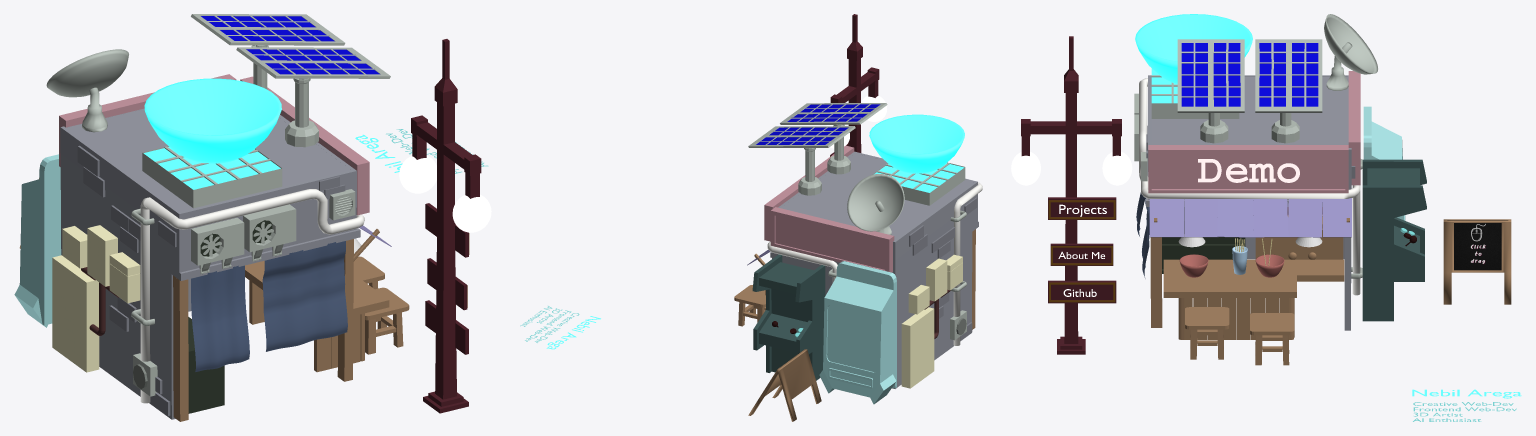
Rendered from JesseFinal2.glb.
3 renders of one model, left to right at view 1: azimuth 30°, elevation 25°; view 2: azimuth 150°, elevation 25°; view 3: azimuth 270°, elevation 25°, orthographic. The views are drawn at different scales.
Visible parts, largest first — view 1: House, Curtain2, Panels, BigBowl, Pole, VendingMachine, Source, TeslaPowerBank, Pipe, Tesla, Table, Brick (+17 smaller); view 2: House, VendingMachine, Game, Panels, LeftAD, BigBowl, Dish, TeslaPowerBank, Source, Pole, Instruction, Tesla (+5 smaller); view 3: Panels, FrontAD, Game, Table, Hammic, House, Pole, Instruction, BigBowl, Duka, Pipe, Dish (+16 smaller).
Boxes of the visible parts, left/top/right/bottom form: House: left=60, top=108, right=360, bottom=419; Curtain2: left=191, top=241, right=347, bottom=371; Panels: left=191, top=14, right=390, bottom=147; BigBowl: left=144, top=78, right=281, bottom=163; Pole: left=411, top=39, right=481, bottom=413; VendingMachine: left=14, top=154, right=61, bottom=327; Source: left=142, top=146, right=282, bottom=208; TeslaPowerBank: left=52, top=255, right=99, bottom=372; Pipe: left=140, top=189, right=364, bottom=403; Tesla: left=62, top=225, right=140, bottom=303; Table: left=245, top=261, right=389, bottom=372; Brick: left=77, top=145, right=345, bottom=415; House: left=770, top=151, right=978, bottom=388; VendingMachine: left=819, top=261, right=896, bottom=404; Game: left=752, top=254, right=825, bottom=380; Panels: left=748, top=103, right=887, bottom=195; LeftAD: left=770, top=207, right=894, bottom=272; BigBowl: left=869, top=114, right=964, bottom=173; Dish: left=847, top=174, right=904, bottom=234; TeslaPowerBank: left=901, top=307, right=934, bottom=388; Source: left=872, top=162, right=965, bottom=205; Pole: left=830, top=14, right=879, bottom=152; Instruction: left=748, top=349, right=821, bottom=421; Tesla: left=908, top=254, right=962, bottom=314; Panels: left=1177, top=39, right=1322, bottom=143; FrontAD: left=1148, top=145, right=1348, bottom=193; Game: left=1362, top=159, right=1426, bottom=321; Table: left=1163, top=259, right=1344, bottom=339; Hammic: left=1149, top=198, right=1351, bottom=237; House: left=1146, top=75, right=1351, bottom=330; Pole: left=1021, top=36, right=1121, bottom=354; Instruction: left=1443, top=219, right=1511, bottom=304; BigBowl: left=1135, top=14, right=1252, bottom=84; Duka: left=1185, top=307, right=1294, bottom=365; Pipe: left=1139, top=78, right=1360, bottom=295; Dish: left=1324, top=14, right=1377, bottom=90.
Bounding box in the file's own units: 10.79 × 7.9 × 11.63.
Materials: 28 (1 with a texture image).
